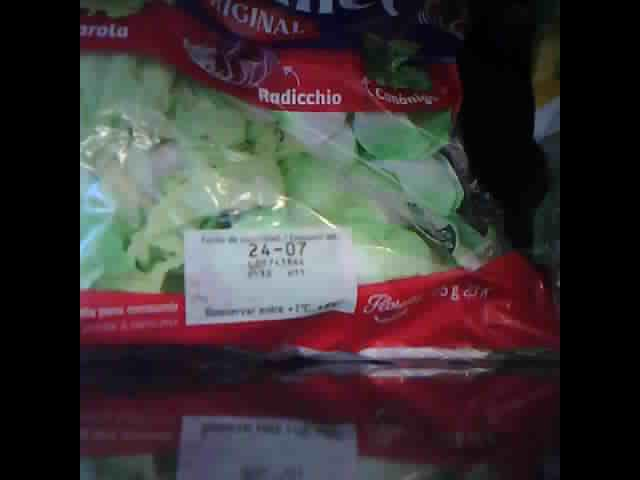florette: (82, 1, 559, 374)
